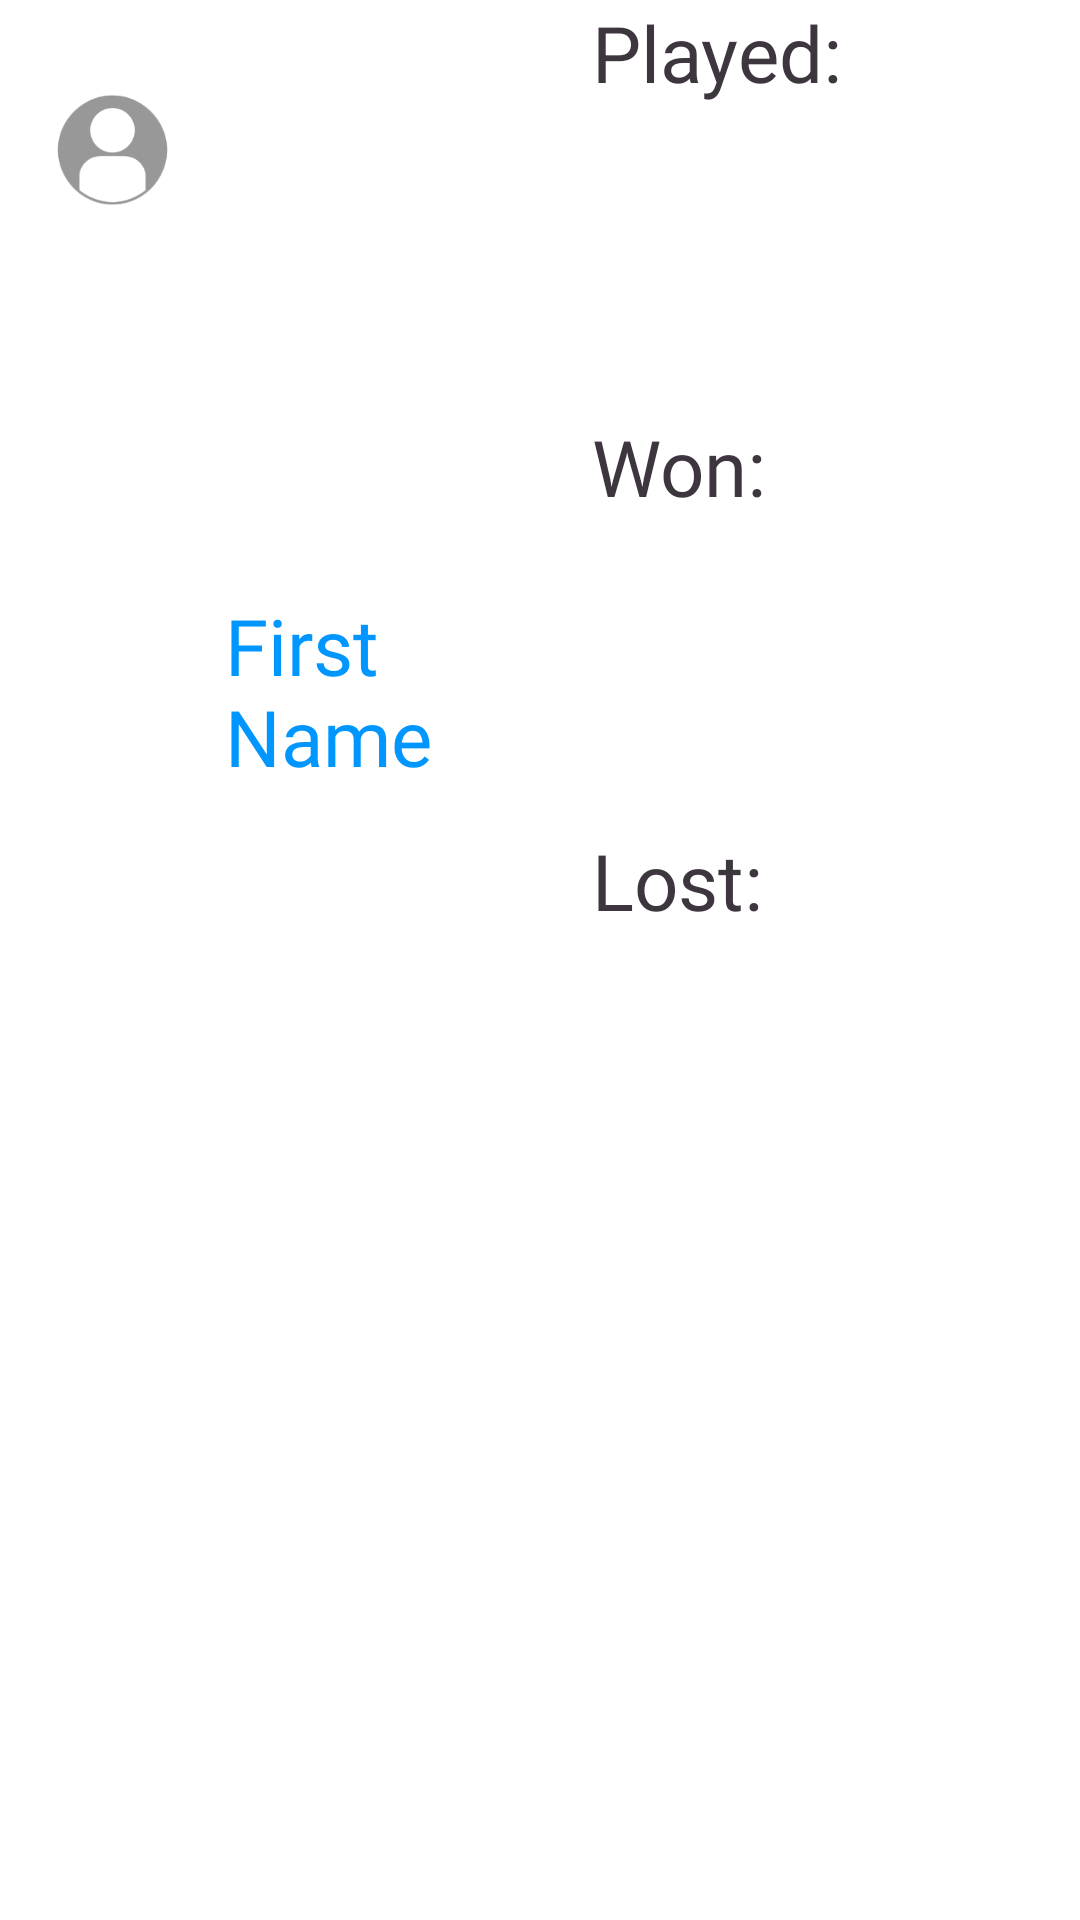

Icons on this 1080*1920 Android screen, each with the point to tap as [x,y]:
user: [112,150]
